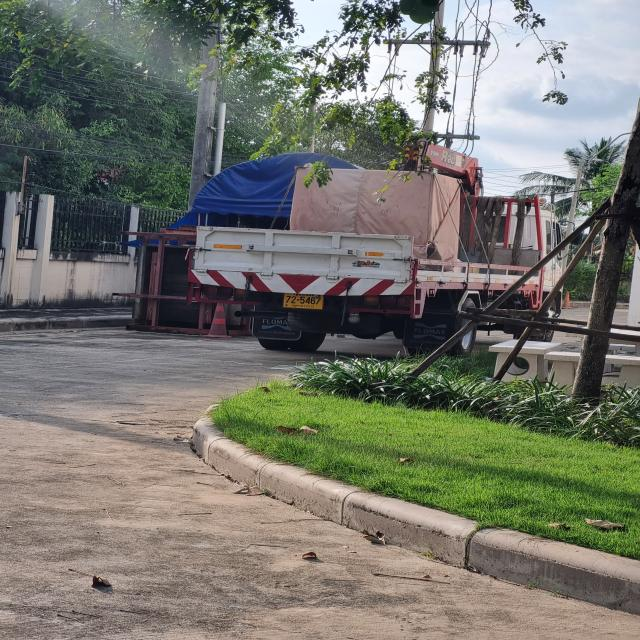license_plate: (283, 292, 326, 310)
